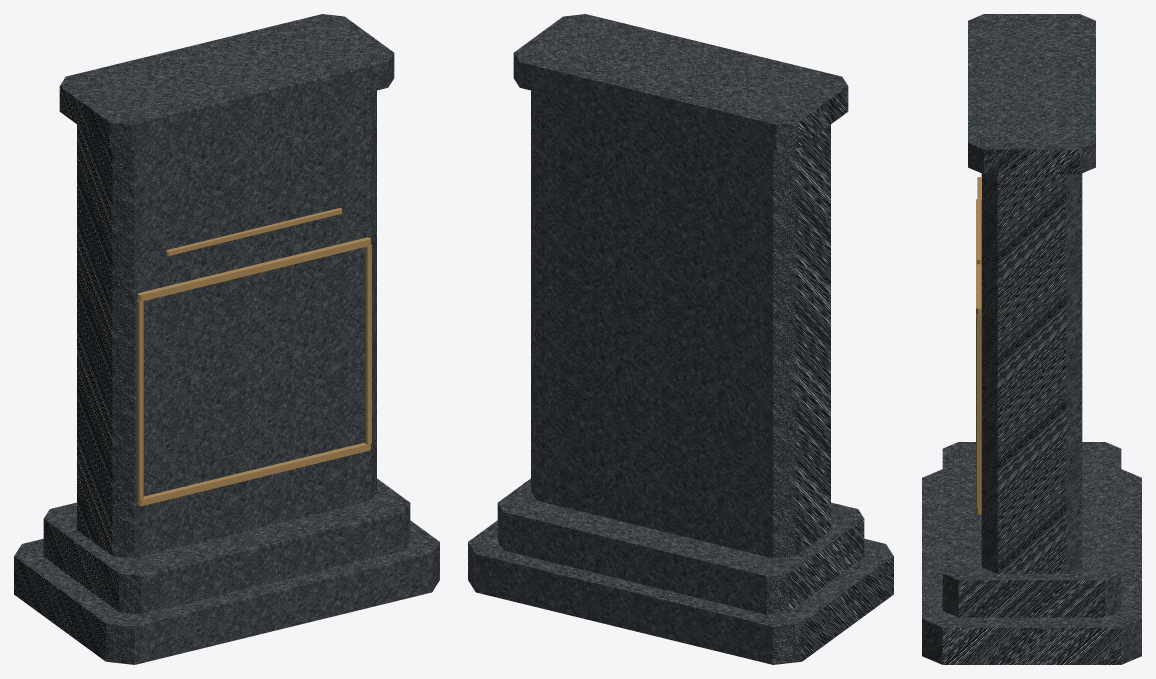
File: codex-monument.gltf
3 renders of one model, left to right at view 1: azimuth 30°, elevation 25°; view 2: azimuth 150°, elevation 25°; view 3: azimuth 270°, elevation 25°, orthographic. The views are drawn at different scales.
Parts seen in each view (by area): view 1: codex-monument; view 2: codex-monument; view 3: codex-monument.
Boxes of the visible parts, x1,y1,x2,y2 form: codex-monument: [14, 14, 439, 664]; codex-monument: [468, 14, 893, 664]; codex-monument: [922, 14, 1141, 664].
Size of the model in its own units: 1.64 by 2.43 by 0.96.
Materials: 2 (1 with a texture image).
